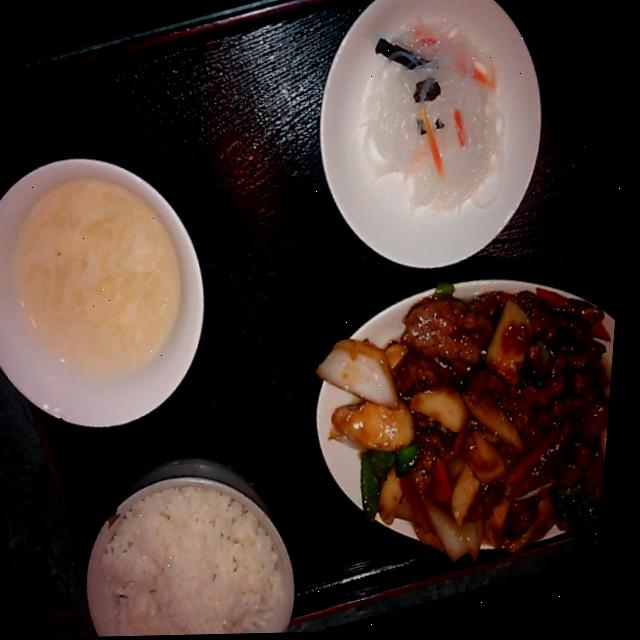猪肉菜式: (286, 244, 625, 605)
米饭主食: (50, 430, 332, 638)
